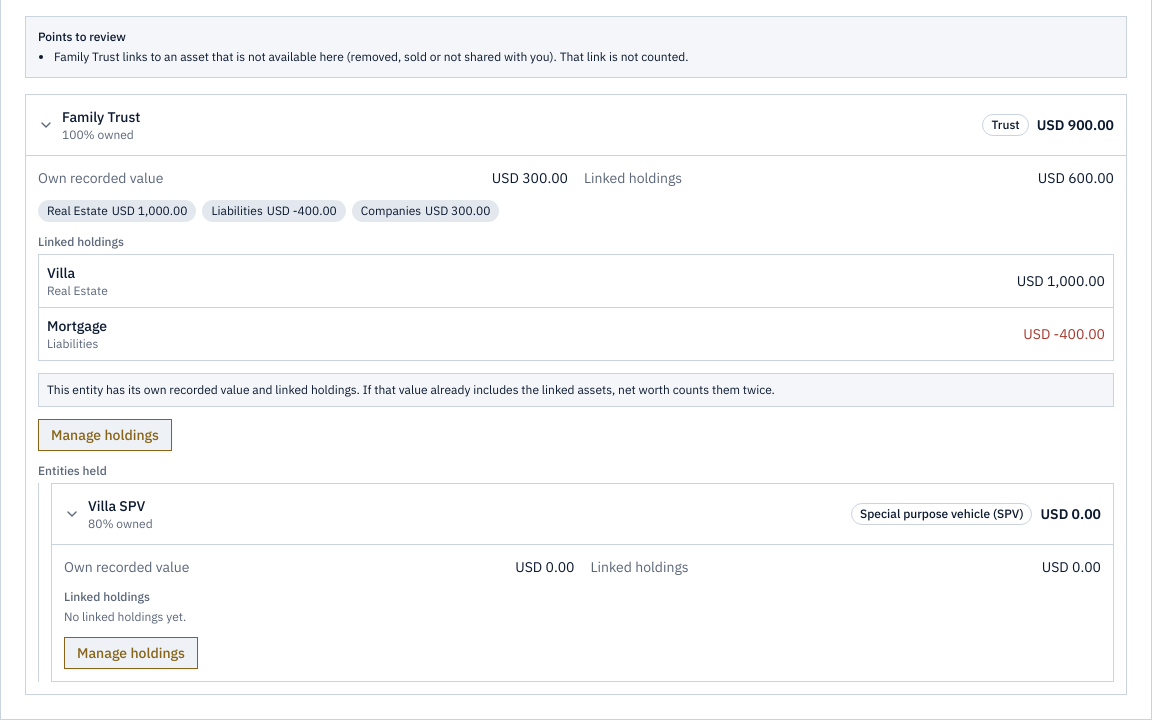
Scenario: ManageHoldingsDialog › saves the ticked ids through the action and shows the result inline
The image size is (1152, 720).
(page scrolled)
Click the button with aria-label "Manage holdings of Villa SPV": (131, 653) x1=64 y1=637 x2=198 y2=669
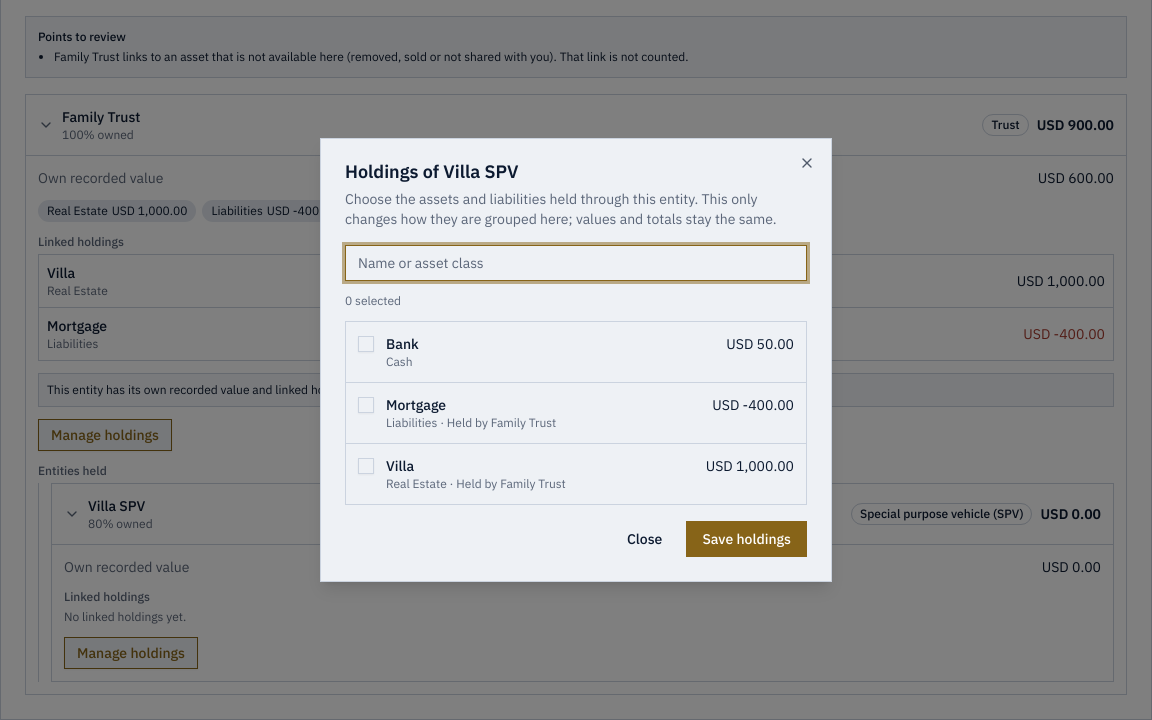
Click the checkbox named "Bank" next to "Bank": (366, 344) x1=358 y1=336 x2=374 y2=352
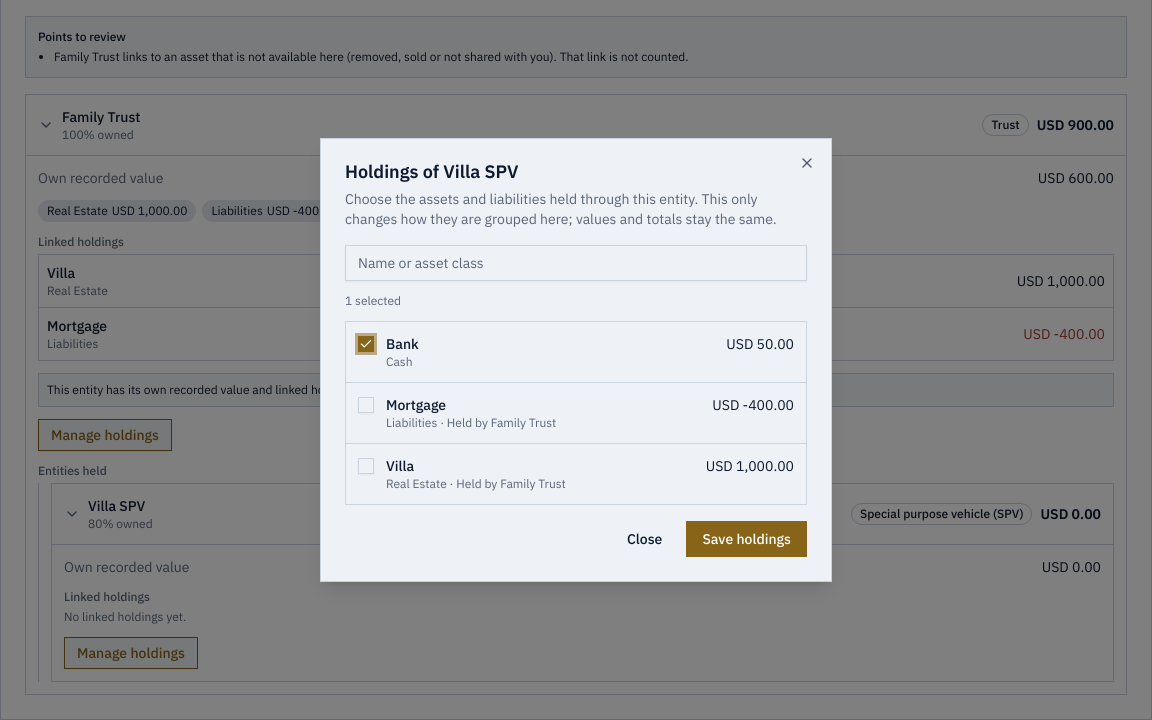
Check: the text "1 selected" is shown, box x1=345 y1=293 x2=401 y2=308
Click the button "Save holdings": (747, 539) x1=686 y1=521 x2=807 y2=557
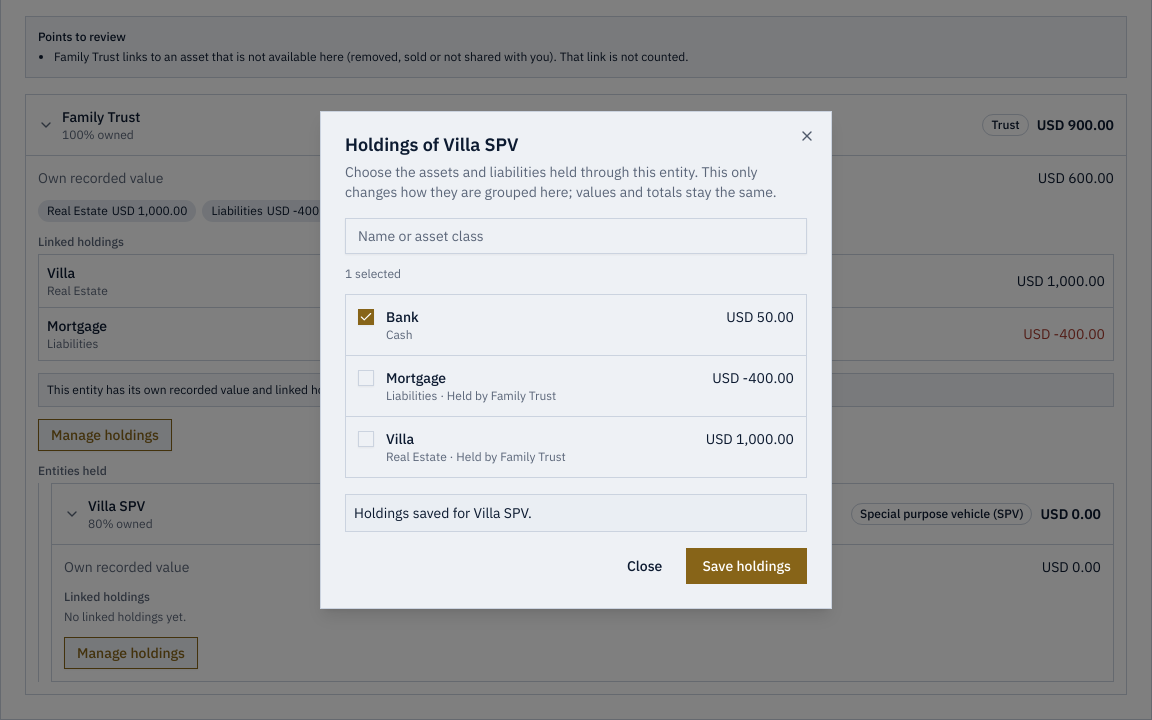
Check: the message reads "Holdings saved for Villa SPV.", box x1=354 y1=504 x2=532 y2=522
